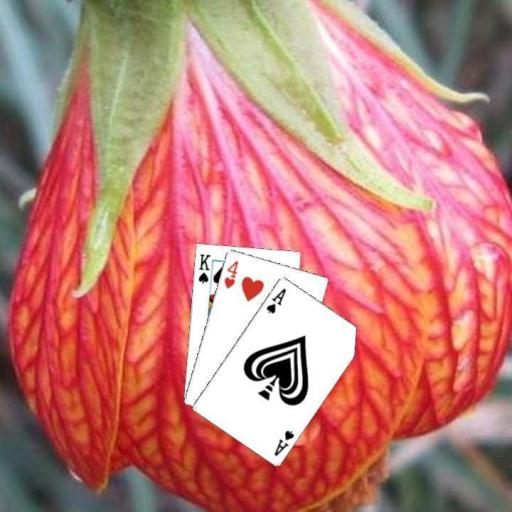card-corner: (271, 427, 296, 457), (263, 284, 287, 315), (220, 258, 240, 290), (195, 250, 212, 285)
